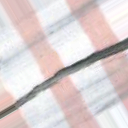crackTip: (1, 37, 128, 121)
